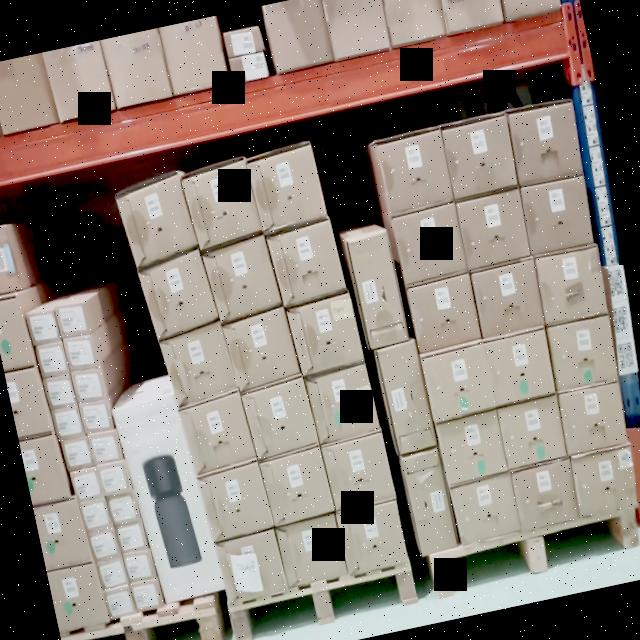box: (112, 396, 225, 602), (116, 172, 197, 266), (181, 158, 263, 250), (346, 230, 408, 346), (139, 249, 217, 341), (504, 102, 586, 188), (203, 233, 281, 323), (160, 322, 238, 407), (377, 342, 436, 452), (222, 307, 299, 390), (248, 144, 324, 228), (392, 204, 469, 286), (269, 218, 343, 302), (454, 188, 530, 268), (377, 131, 452, 212), (442, 116, 516, 196), (290, 296, 364, 374), (402, 451, 458, 554), (244, 378, 316, 457), (535, 248, 609, 324), (482, 329, 556, 405), (421, 344, 495, 420), (306, 365, 379, 440), (472, 261, 544, 336), (324, 434, 396, 509), (521, 179, 592, 254), (200, 466, 272, 538), (180, 400, 253, 471), (216, 528, 286, 602), (408, 278, 480, 349), (261, 450, 334, 520), (548, 318, 617, 392), (452, 473, 522, 545), (338, 502, 408, 574), (497, 398, 568, 468), (510, 460, 580, 530), (437, 413, 508, 482), (558, 386, 630, 454), (276, 516, 346, 584), (569, 448, 637, 517), (46, 561, 106, 631), (33, 496, 89, 568), (19, 434, 67, 504), (4, 368, 48, 437), (0, 294, 31, 371), (0, 225, 18, 293), (61, 435, 93, 470), (80, 400, 112, 434), (89, 430, 121, 463), (99, 462, 131, 495), (44, 376, 75, 408), (52, 406, 83, 438), (56, 304, 86, 337), (73, 368, 103, 401), (66, 337, 96, 369), (37, 343, 67, 375), (89, 528, 119, 560), (132, 578, 162, 610), (28, 312, 58, 343), (81, 498, 110, 530), (117, 521, 146, 552), (72, 468, 100, 500), (108, 494, 138, 523), (123, 550, 154, 578), (99, 558, 125, 588), (106, 586, 132, 616)
